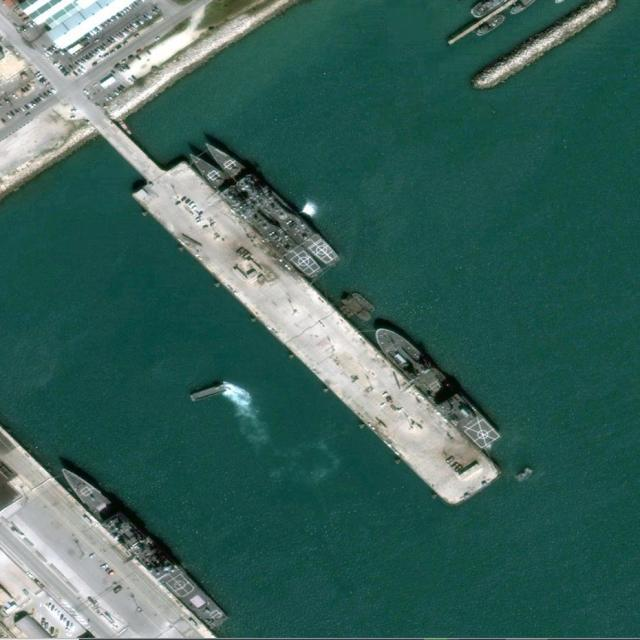Cruiser: (54, 459, 227, 631)
Dock: (129, 151, 500, 514)
Frigate: (200, 134, 339, 269), (183, 147, 322, 280)
Other Warship: (368, 319, 502, 454)
